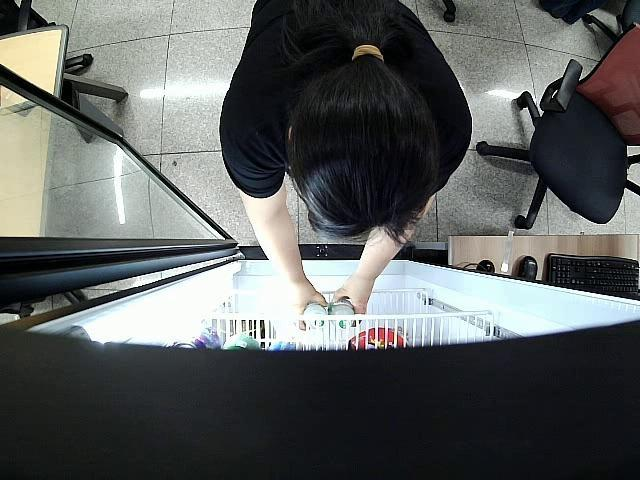18_trevi: (294, 302, 330, 332), (330, 302, 361, 336)
